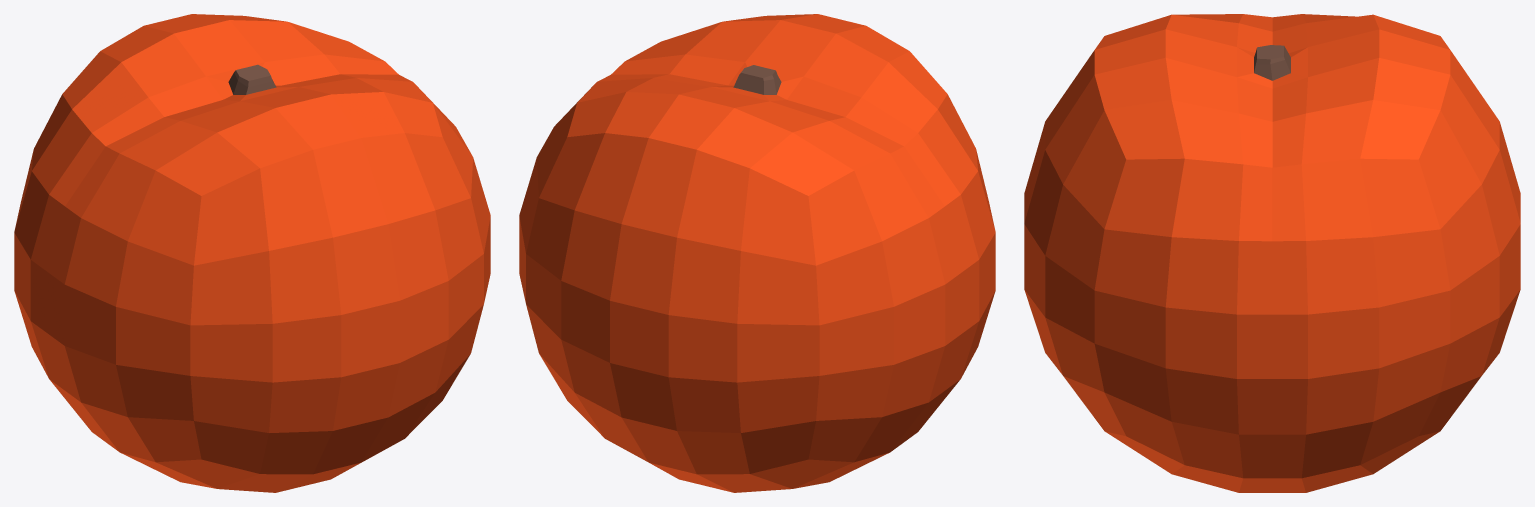
Rendered from peach.glb.
3 views of the same model, side by side, from view 1: azimuth 30°, elevation 25°; view 2: azimuth 150°, elevation 25°; view 3: azimuth 270°, elevation 25° (orthographic). The views are drawn at different scales.
Parts seen in each view (by area): view 1: peach_Roundcube.006; view 2: peach_Roundcube.006; view 3: peach_Roundcube.006.
Part boxes in pixels (box(x1,y1,x2,y2)): peach_Roundcube.006: box(14, 14, 490, 492); peach_Roundcube.006: box(519, 14, 995, 492); peach_Roundcube.006: box(1024, 14, 1520, 492).
Bounding box in the file's own units: 0.5925 × 0.5574 × 0.5925.
